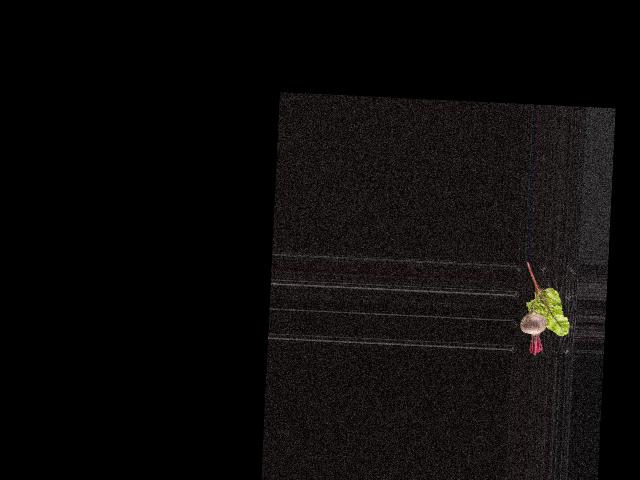beet: (518, 287, 548, 356)
